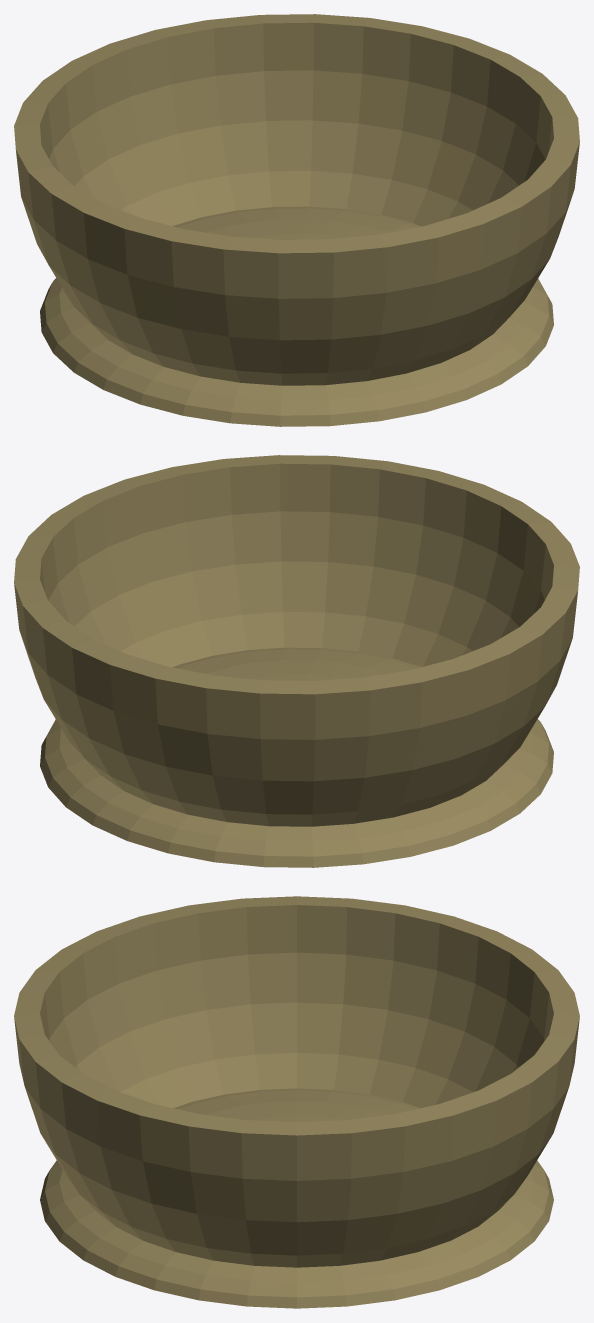
File: Taza.fbx
3 renders of one model, top to bottom at view 1: azimuth 30°, elevation 25°; view 2: azimuth 150°, elevation 25°; view 3: azimuth 270°, elevation 25°, orthographic.
Parts seen in each view (by area): view 1: vaso; view 2: vaso; view 3: vaso.
Boxes of the visible parts, left/top/right/bottom form: vaso: left=14, top=14, right=579, bottom=426; vaso: left=14, top=455, right=579, bottom=867; vaso: left=14, top=896, right=579, bottom=1308.
Size of the model in its own units: 220 by 80 by 220.
